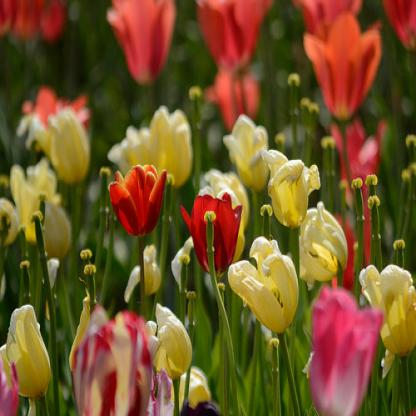TULIP: (25, 36, 402, 402)
